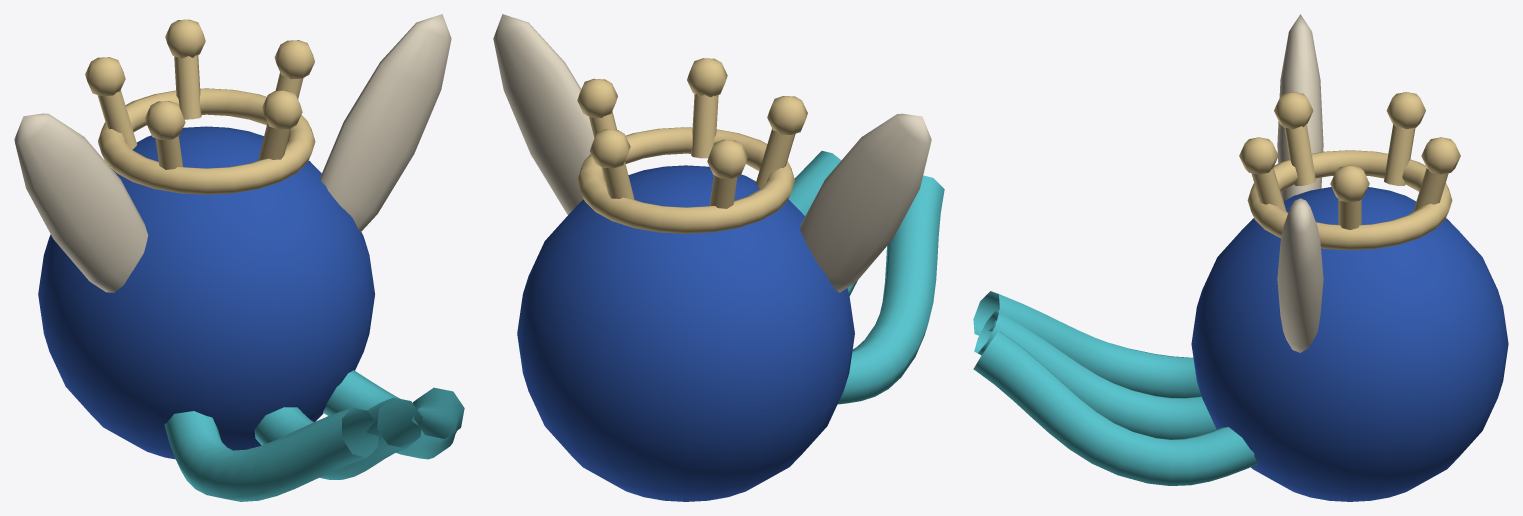
File: item-crown-comet.glb
3 views of the same model, side by side, from view 1: azimuth 30°, elevation 25°; view 2: azimuth 150°, elevation 25°; view 3: azimuth 270°, elevation 25° (orthographic). The views are drawn at different scales.
Parts seen in each view (by area): view 1: Item_crown-comet_VertexPalette; view 2: Item_crown-comet_VertexPalette; view 3: Item_crown-comet_VertexPalette.
Part boxes in pixels (x1,y1,x2,y2): Item_crown-comet_VertexPalette: [14, 14, 464, 501]; Item_crown-comet_VertexPalette: [493, 14, 944, 501]; Item_crown-comet_VertexPalette: [973, 14, 1508, 501].
Bounding box in the file's own units: 1.43 × 1.26 × 1.62.
